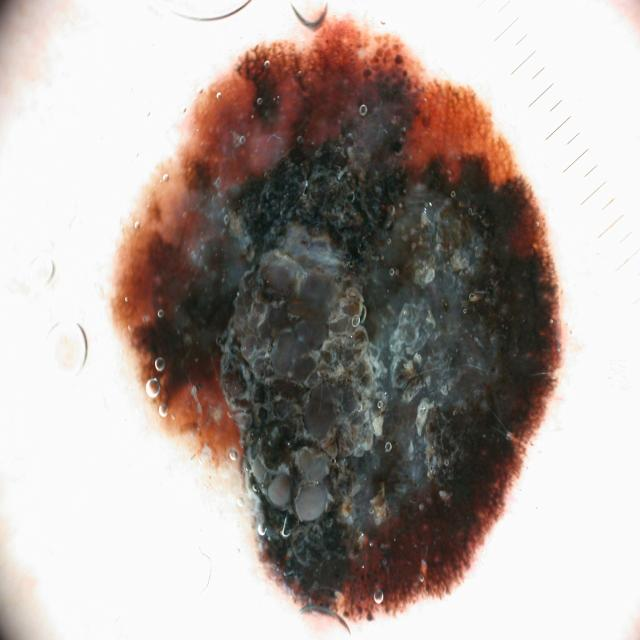Melanoma: (100, 16, 564, 622)
